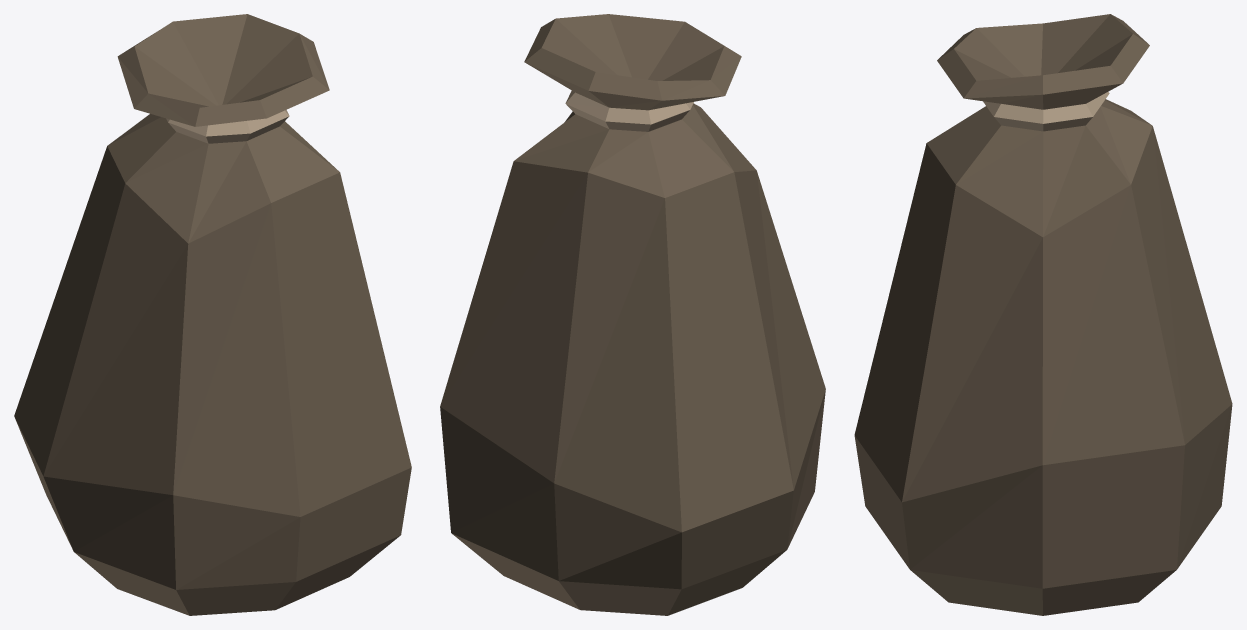
The model's file is SM_Prop_Sack_03.glb.
The picture shows the model from 3 angles, left to right: view 1: azimuth 30°, elevation 25°; view 2: azimuth 150°, elevation 25°; view 3: azimuth 270°, elevation 25°; orthographic projection. The views are drawn at different scales.
Visible parts, largest first — view 1: SM_Prop_Sack_03_part00; view 2: SM_Prop_Sack_03_part00; view 3: SM_Prop_Sack_03_part00.
Boxes of the visible parts, x1=… form: SM_Prop_Sack_03_part00: x1=14, y1=14, x2=411, y2=615; SM_Prop_Sack_03_part00: x1=440, y1=14, x2=825, y2=615; SM_Prop_Sack_03_part00: x1=854, y1=14, x2=1232, y2=615.
Size of the model in its own units: 0.4972 by 0.7404 by 0.4831.
Materials: 1 (1 with a texture image).
